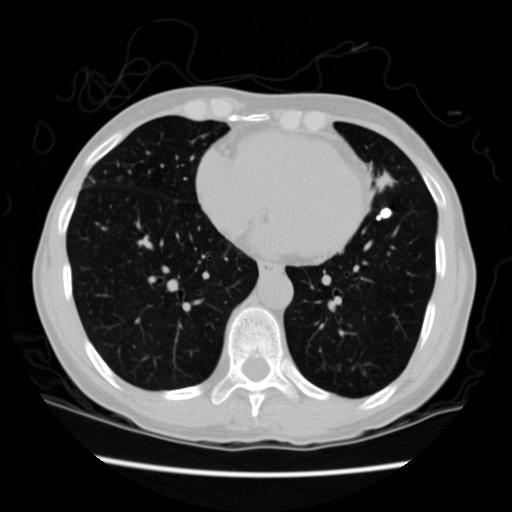nodule: (377, 204, 396, 223)
